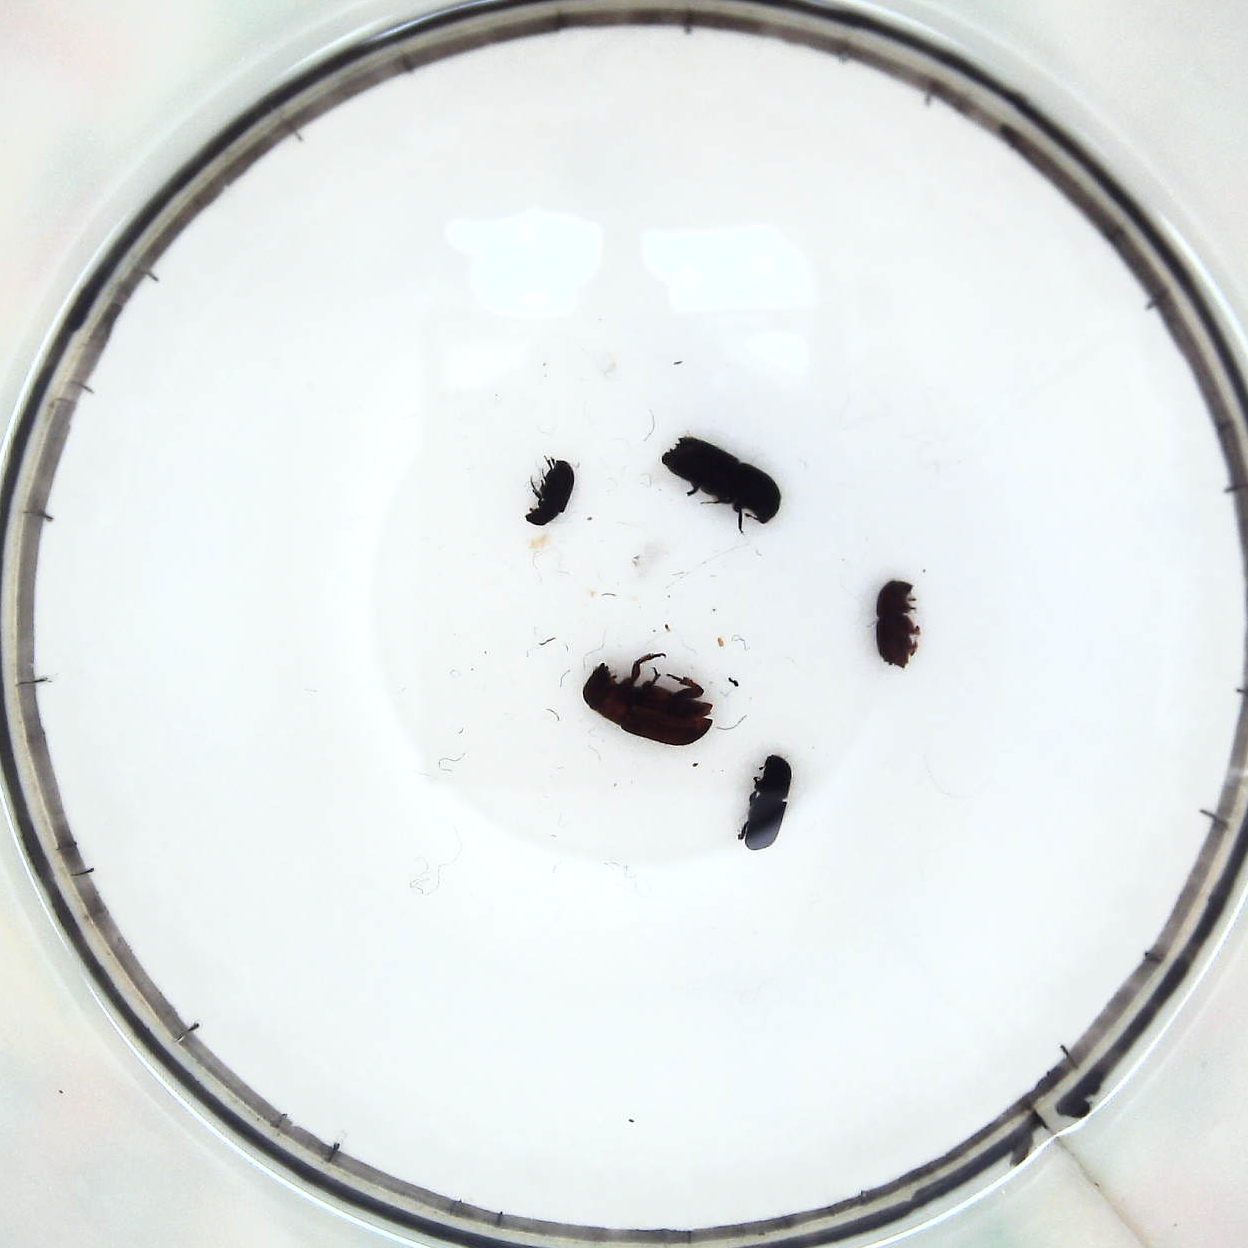Boerner: (657, 433, 781, 533)
Leconte: (581, 656, 713, 750)
Linnaeus: (874, 573, 920, 667)
armandi: (745, 747, 795, 858)
coleoptera: (523, 461, 578, 525)
